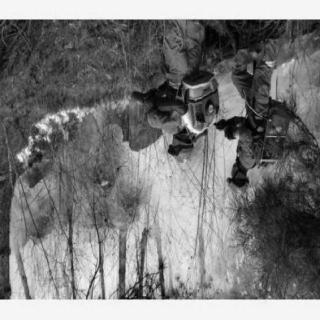Fire: (15, 95, 129, 173)
